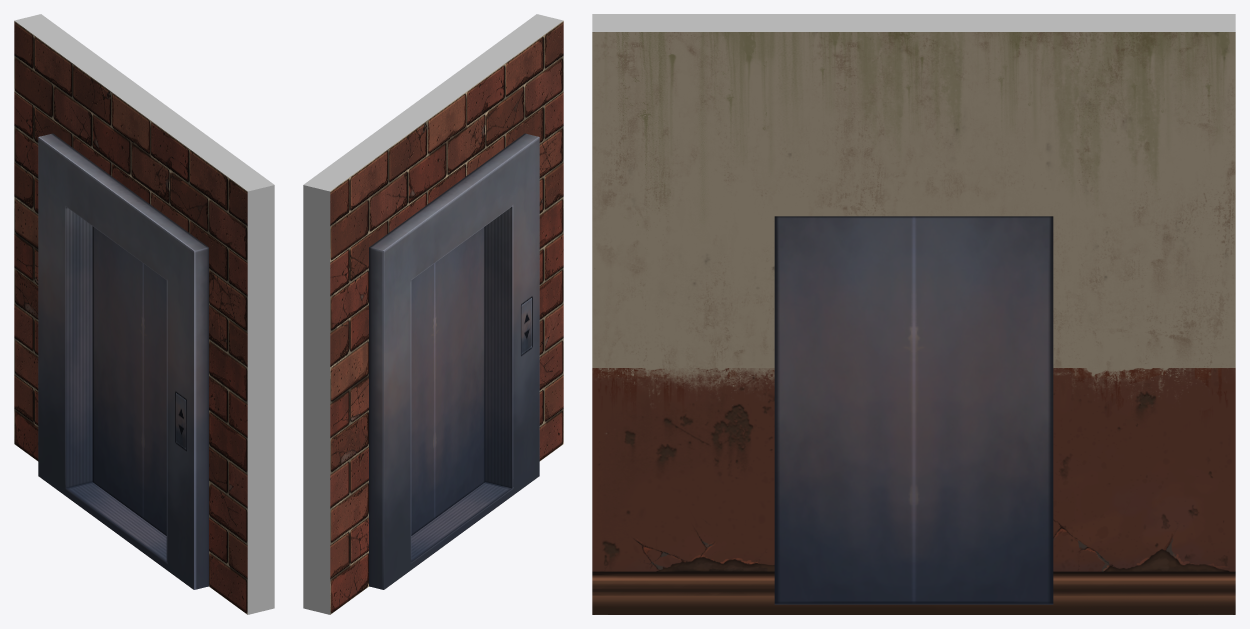
Rendered from elevator01_entrance.fbx.
3 views of the same model, side by side, from view 1: azimuth 30°, elevation 25°; view 2: azimuth 150°, elevation 25°; view 3: azimuth 270°, elevation 25° (orthographic). The views are drawn at different scales.
Parts seen in each view (by area): view 1: elevator_entrance, elevator_door01_L, elevator_door01_R; view 2: elevator_entrance, elevator_door01_R, elevator_door01_L; view 3: elevator_entrance, elevator_door01_R, elevator_door01_L.
Boxes of the visible parts, bbox=[...] form: elevator_entrance: bbox=[14, 14, 274, 614]; elevator_door01_L: bbox=[92, 226, 142, 518]; elevator_door01_R: bbox=[143, 263, 166, 535]; elevator_entrance: bbox=[303, 14, 563, 614]; elevator_door01_R: bbox=[435, 226, 485, 518]; elevator_door01_L: bbox=[411, 263, 434, 535]; elevator_entrance: bbox=[592, 14, 1235, 614]; elevator_door01_R: bbox=[774, 216, 913, 603]; elevator_door01_L: bbox=[914, 216, 1053, 603].
Size of the model in its own units: 31 by 300 by 300.
